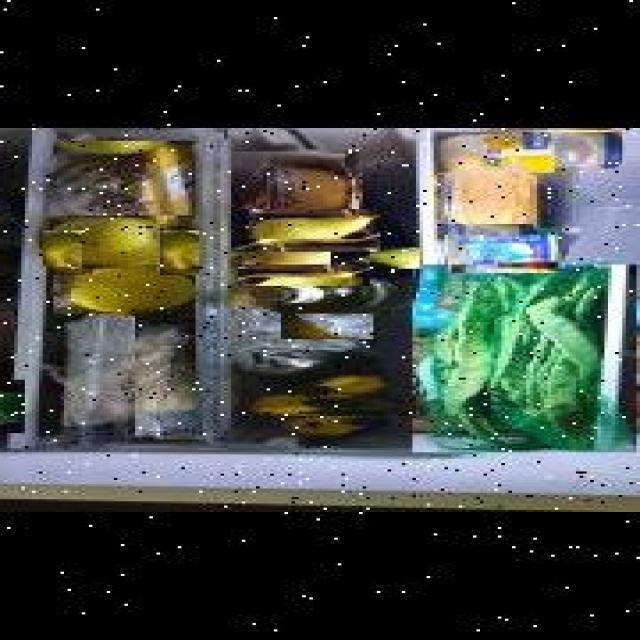apple: (37, 216, 194, 266), (50, 266, 192, 314), (152, 230, 195, 276)
banana: (274, 406, 402, 438), (245, 396, 395, 418), (249, 376, 384, 394)
bread: (0, 298, 114, 374)
broccoli: (0, 228, 96, 298)
cheese: (132, 314, 192, 439)
green_beans: (409, 266, 633, 454)
humus: (228, 151, 360, 239), (434, 162, 534, 235)
lemon: (277, 314, 370, 340)
mayonaise: (434, 131, 618, 174)
milk: (0, 380, 114, 433)
pear: (235, 230, 366, 286), (227, 209, 377, 252), (327, 247, 416, 269)
pineapple: (50, 140, 196, 230)
yogurt: (441, 228, 555, 273)
